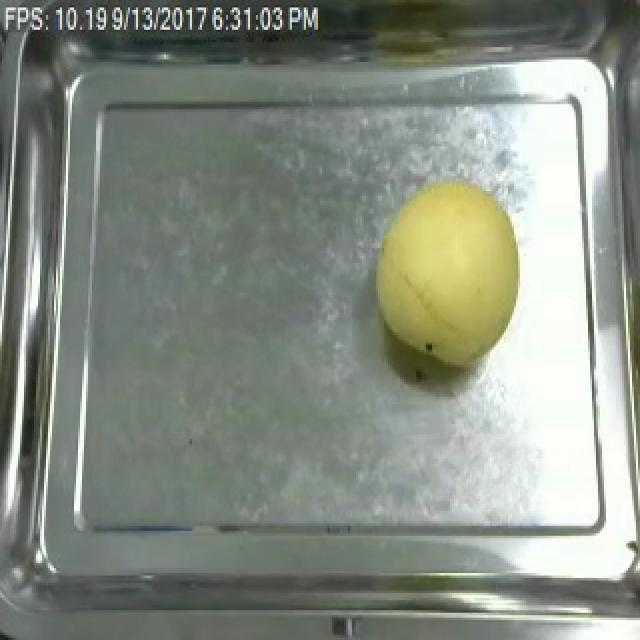Fruit: (366, 171, 530, 372)
